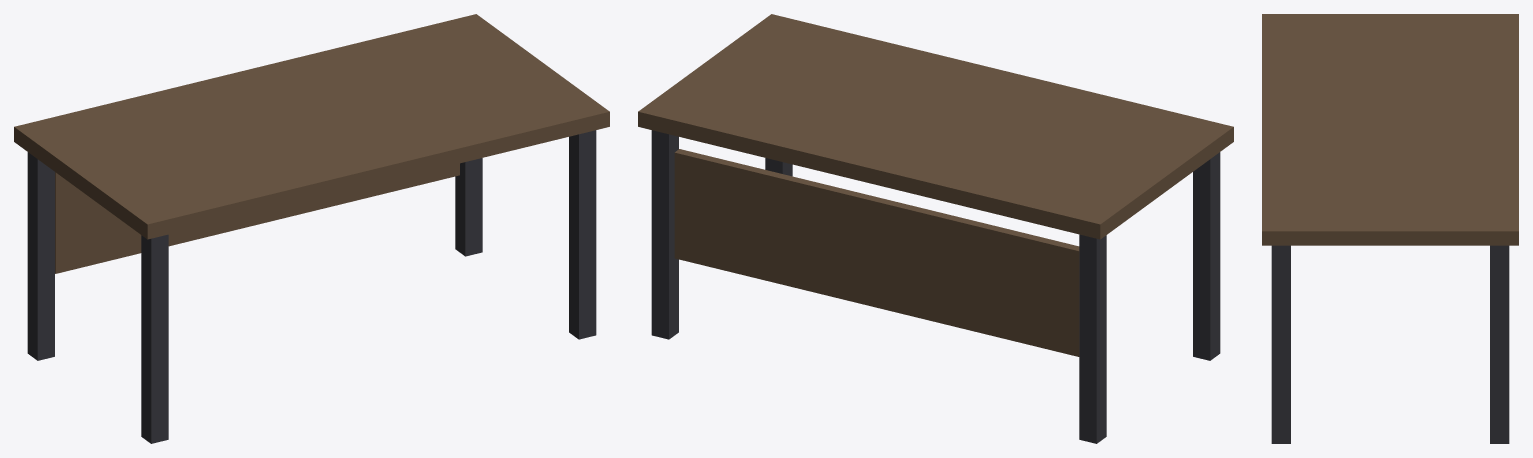
File: desk.glb
3 views of the same model, side by side, from view 1: azimuth 30°, elevation 25°; view 2: azimuth 150°, elevation 25°; view 3: azimuth 270°, elevation 25° (orthographic). The views are drawn at different scales.
Visible parts, largest first — view 1: Desk_Top, Desk, Desk_Panel; view 2: Desk_Top, Desk_Panel, Desk; view 3: Desk_Top, Desk.
Boxes of the visible parts, x1=… form: Desk_Top: x1=14, y1=14, x2=609, y2=239; Desk: x1=27, y1=130, x2=596, y2=443; Desk_Panel: x1=55, y1=163, x2=459, y2=273; Desk_Top: x1=638, y1=14, x2=1233, y2=239; Desk_Panel: x1=674, y1=149, x2=1079, y2=356; Desk: x1=651, y1=130, x2=1220, y2=443; Desk_Top: x1=1262, y1=14, x2=1518, y2=245; Desk: x1=1271, y1=245, x2=1509, y2=443.
Size of the model in its own units: 1.6 by 0.745 by 0.8.
